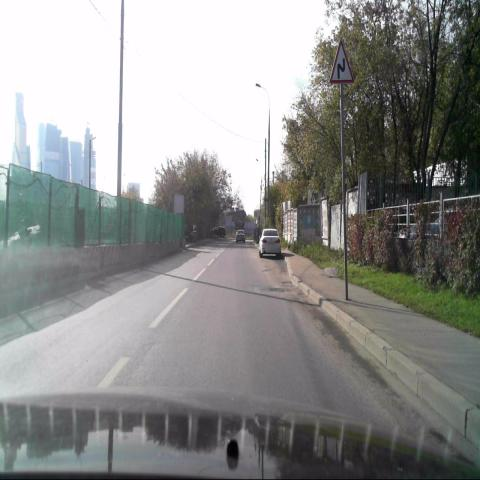1_12: (327, 39, 356, 85)
